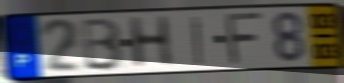2: (38, 17, 85, 75)
8: (270, 10, 307, 65)
B: (81, 16, 126, 73)
F: (225, 10, 266, 67)
H: (126, 14, 176, 71)
I: (190, 15, 204, 68)
